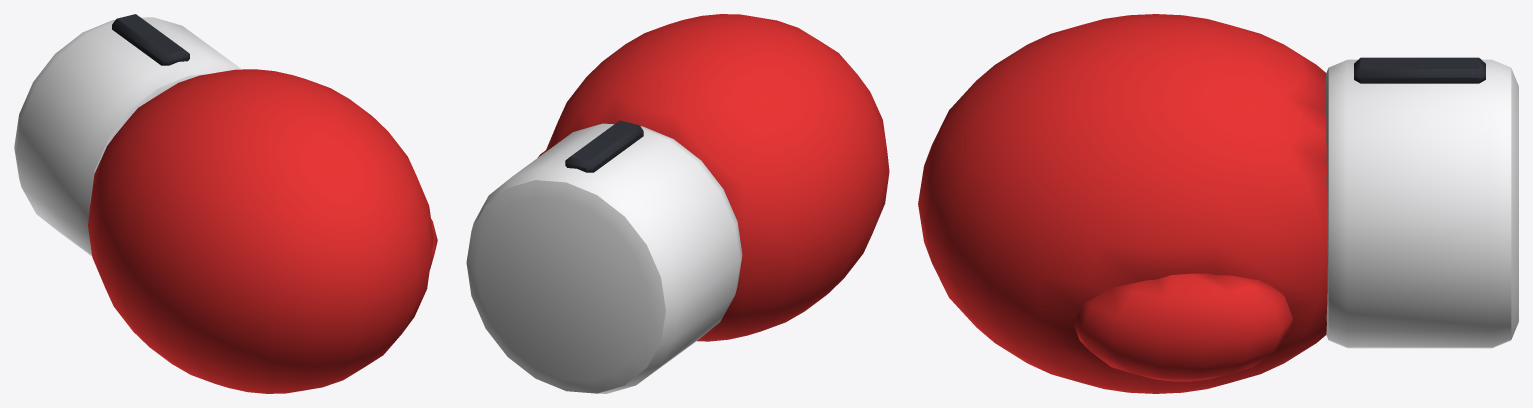
Rendered from bl_glove.glb.
3 views of the same model, side by side, from view 1: azimuth 30°, elevation 25°; view 2: azimuth 150°, elevation 25°; view 3: azimuth 270°, elevation 25° (orthographic). The views are drawn at different scales.
Visible parts, largest first — view 1: glove; view 2: glove; view 3: glove.
Part boxes in pixels (box(x1,y1,x2,y2)): glove: box(14, 14, 437, 393); glove: box(466, 14, 889, 393); glove: box(918, 14, 1518, 393).
Size of the model in its own units: 0.6536 by 0.57 by 0.91.
